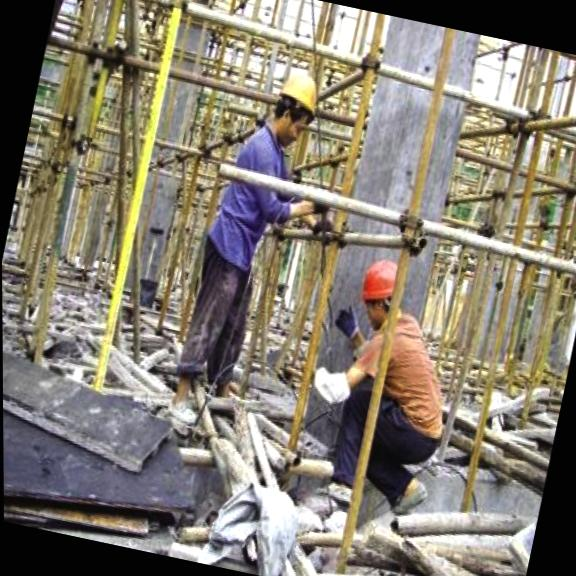no_safety_vest: (192, 118, 310, 290), (354, 299, 467, 460)
